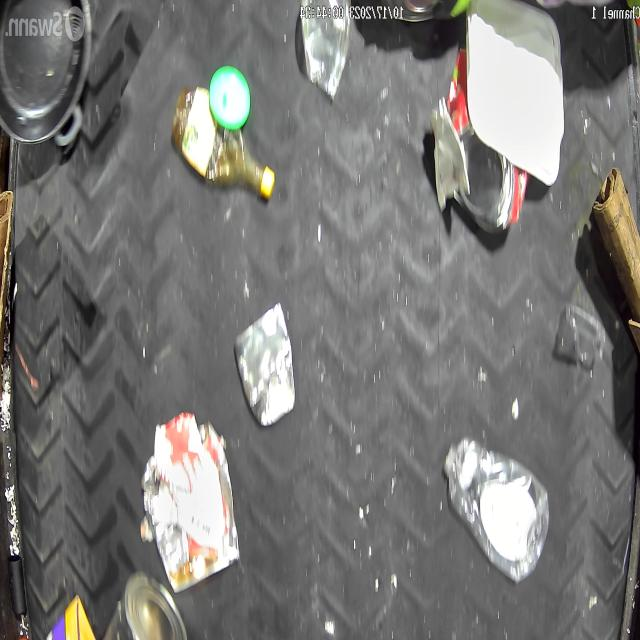can: (448, 48, 528, 231), (233, 302, 296, 426), (100, 572, 188, 640), (301, 0, 351, 99)
plastic_bottle: (444, 436, 550, 582)
